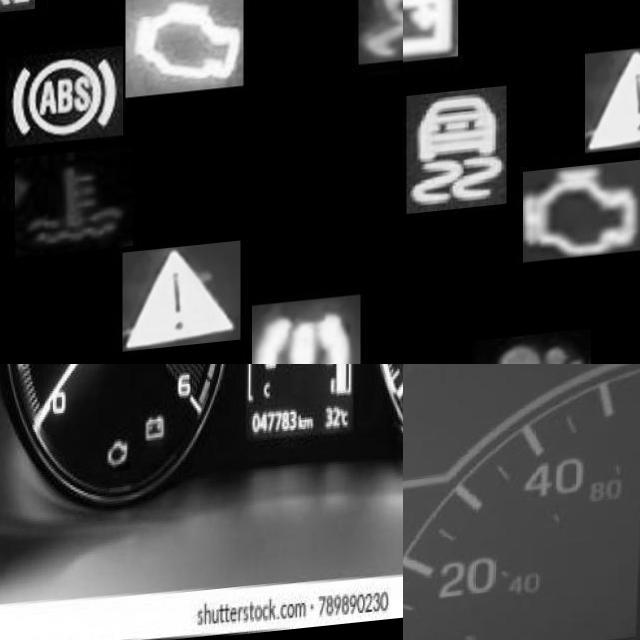Central Warning lamp: (122, 248, 240, 357), (585, 53, 640, 162)
Engine cooling system: (15, 151, 133, 261)
